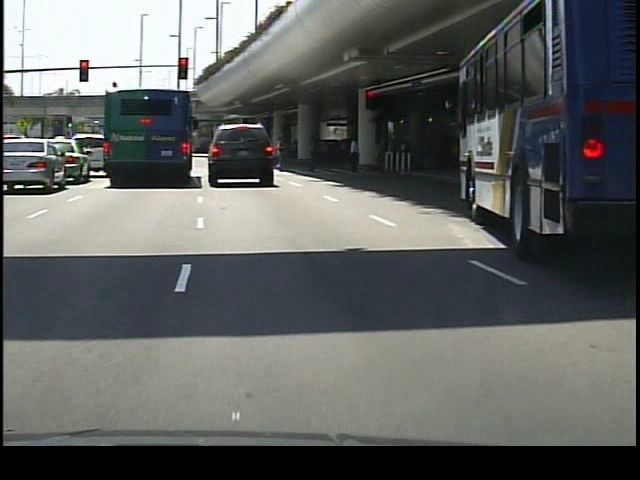person: (300, 131, 322, 175), (342, 133, 362, 171), (271, 132, 287, 174)
